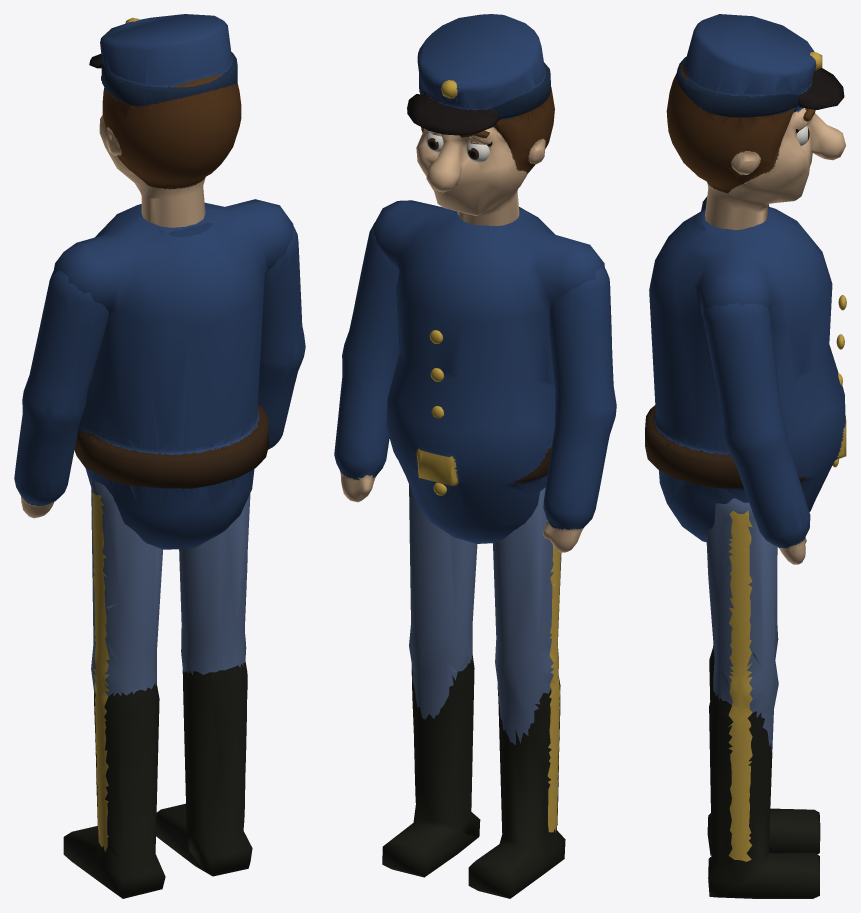
The model's file is soldier.glb.
3 renders of one model, left to right at view 1: azimuth 30°, elevation 25°; view 2: azimuth 150°, elevation 25°; view 3: azimuth 270°, elevation 25°, orthographic. The views are drawn at different scales.
Visible parts, largest first — view 1: body_lod0, leg_l_lod0, head_lod0, leg_r_lod0, arm_l_lod0, arm_r_lod0; view 2: body_lod0, head_lod0, leg_l_lod0, leg_r_lod0, arm_l_lod0, arm_r_lod0; view 3: body_lod0, head_lod0, leg_r_lod0, arm_r_lod0, leg_l_lod0.
Part boxes in pixels (x1,y1,x2,y2): body_lod0: (53, 199, 293, 549); leg_l_lod0: (63, 478, 165, 898); head_lod0: (89, 14, 241, 227); leg_r_lod0: (156, 494, 252, 876); arm_l_lod0: (14, 270, 108, 518); arm_r_lod0: (258, 226, 305, 449); body_lod0: (374, 200, 604, 543); head_lod0: (407, 14, 554, 226); leg_l_lod0: (468, 487, 565, 898); leg_r_lod0: (382, 484, 480, 877); arm_l_lod0: (542, 267, 616, 552); arm_r_lod0: (334, 223, 399, 502); body_lod0: (645, 196, 846, 542); head_lod0: (666, 14, 845, 229); leg_r_lod0: (706, 498, 819, 898); arm_r_lod0: (702, 303, 810, 564); leg_l_lod0: (707, 547, 820, 855).
Size of what is drawn, in the model's own units: 0.649 by 1.94 by 0.4195.
